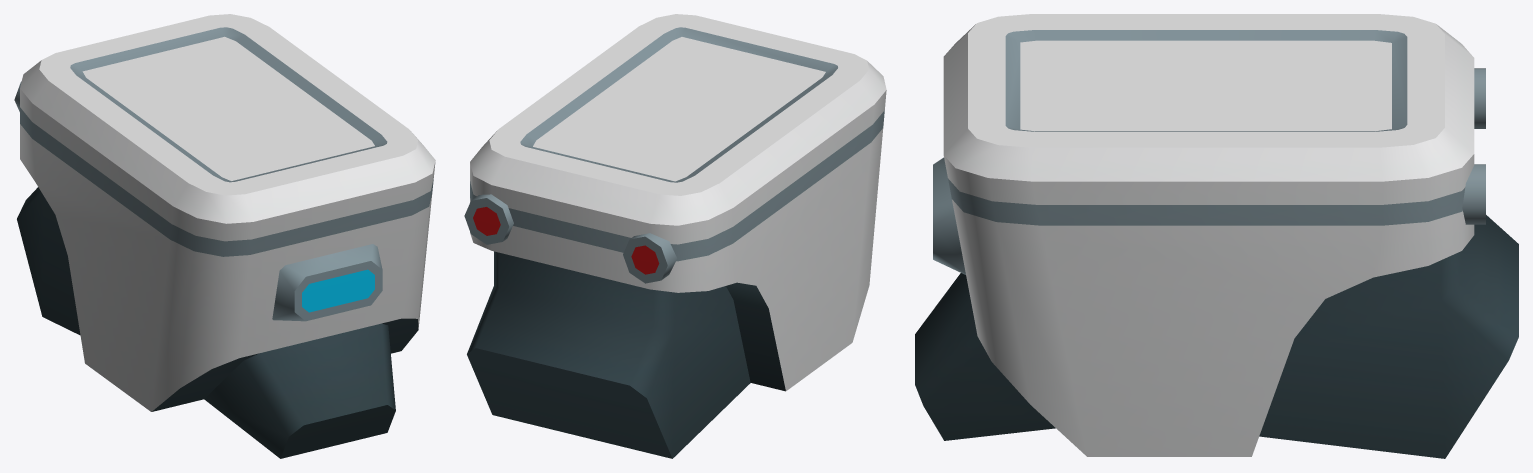
Rendered from Delivery_drone_005.fbx.
The picture shows the model from 3 angles, left to right: view 1: azimuth 30°, elevation 25°; view 2: azimuth 150°, elevation 25°; view 3: azimuth 270°, elevation 25°; orthographic projection. The views are drawn at different scales.
Parts seen in each view (by area): view 1: Delivery_drone_005; view 2: Delivery_drone_005; view 3: Delivery_drone_005.
Boxes of the visible parts, x1,y1,x2,y2 form: Delivery_drone_005: [14, 14, 435, 458]; Delivery_drone_005: [464, 14, 886, 458]; Delivery_drone_005: [915, 14, 1518, 458].
Size of the model in its own units: 65 by 109 by 65.51.
